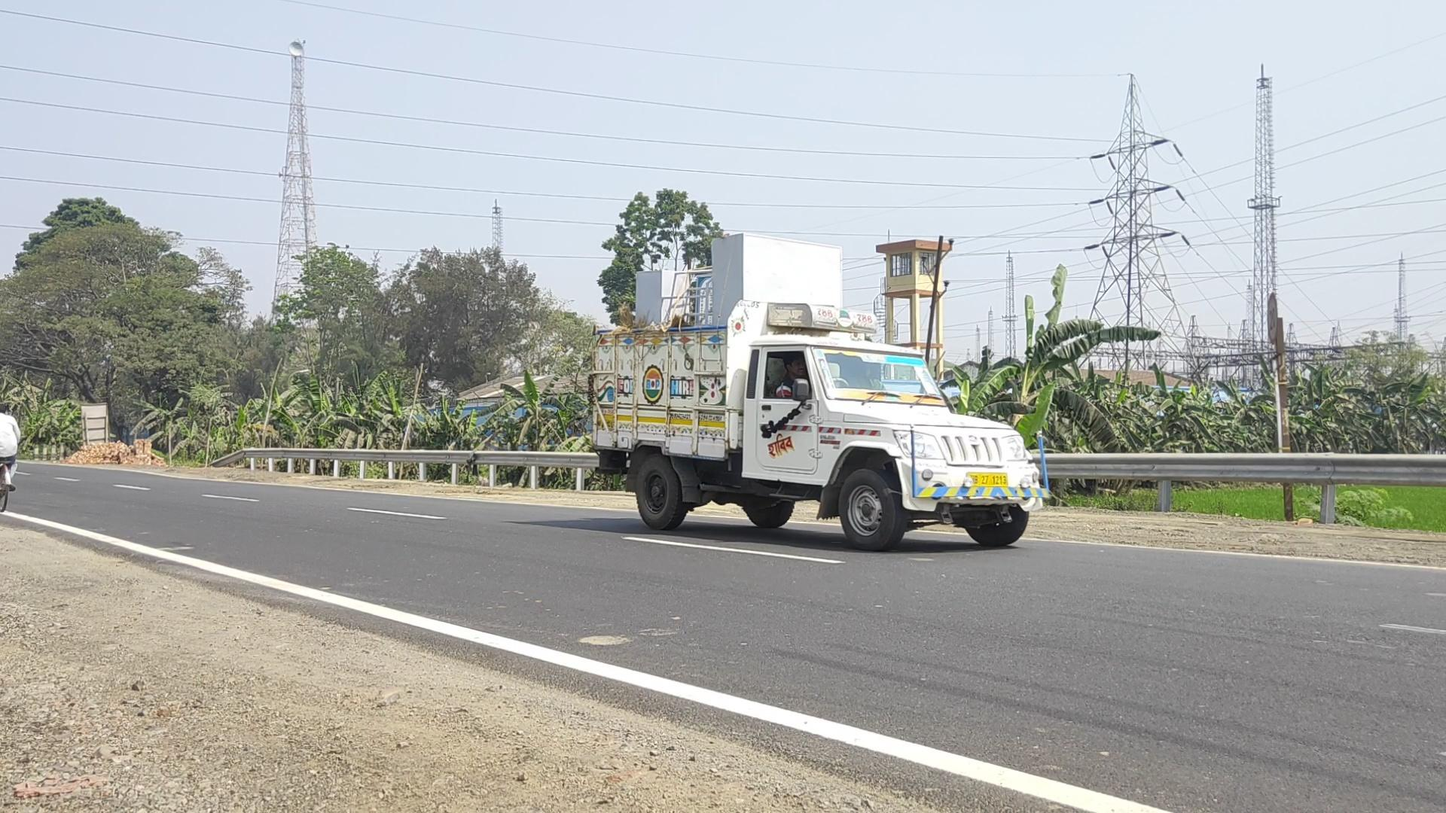van: (587, 233, 1050, 552)
